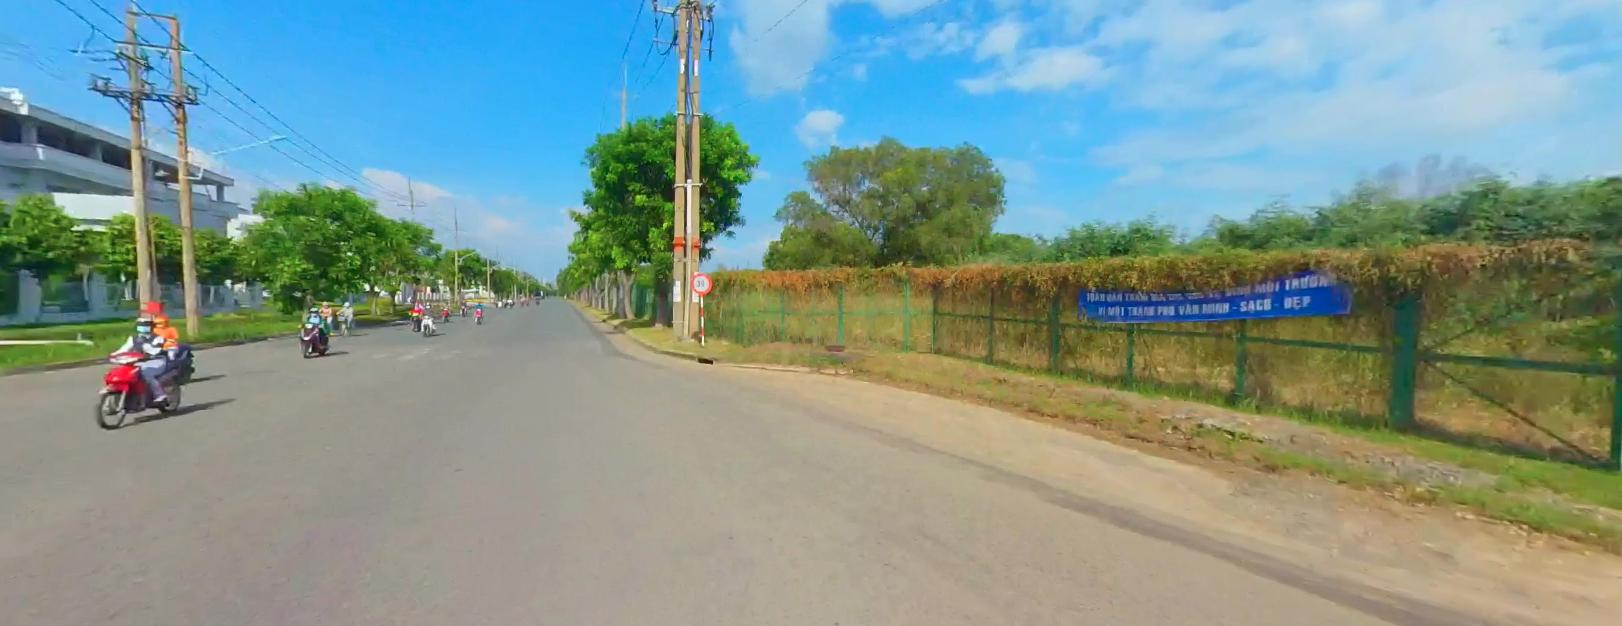Gioi han toc do: (691, 271, 713, 293)
